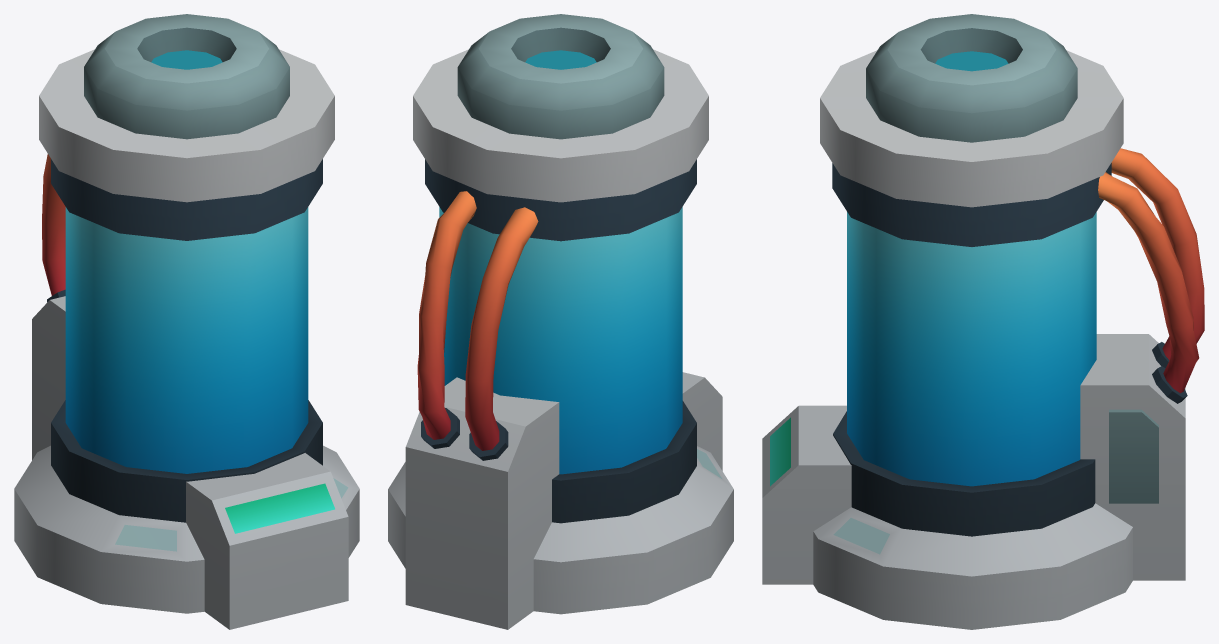
The model's file is ExperimentalTube.fbx.
3 views of the same model, side by side, from view 1: azimuth 30°, elevation 25°; view 2: azimuth 150°, elevation 25°; view 3: azimuth 270°, elevation 25° (orthographic). The views are drawn at different scales.
Visible parts, largest first — view 1: Experimental_Tube, Experimental_Tube_Glass; view 2: Experimental_Tube, Experimental_Tube_Glass; view 3: Experimental_Tube, Experimental_Tube_Glass.
Part boxes in pixels (left/top/right/bottom): Experimental_Tube: left=14, top=14, right=359, bottom=629; Experimental_Tube_Glass: left=65, top=207, right=308, bottom=473; Experimental_Tube: left=388, top=14, right=733, bottom=629; Experimental_Tube_Glass: left=439, top=207, right=682, bottom=474; Experimental_Tube: left=762, top=14, right=1204, bottom=629; Experimental_Tube_Glass: left=847, top=212, right=1096, bottom=486.
Size of the model in its own units: 329 by 518 by 411.
